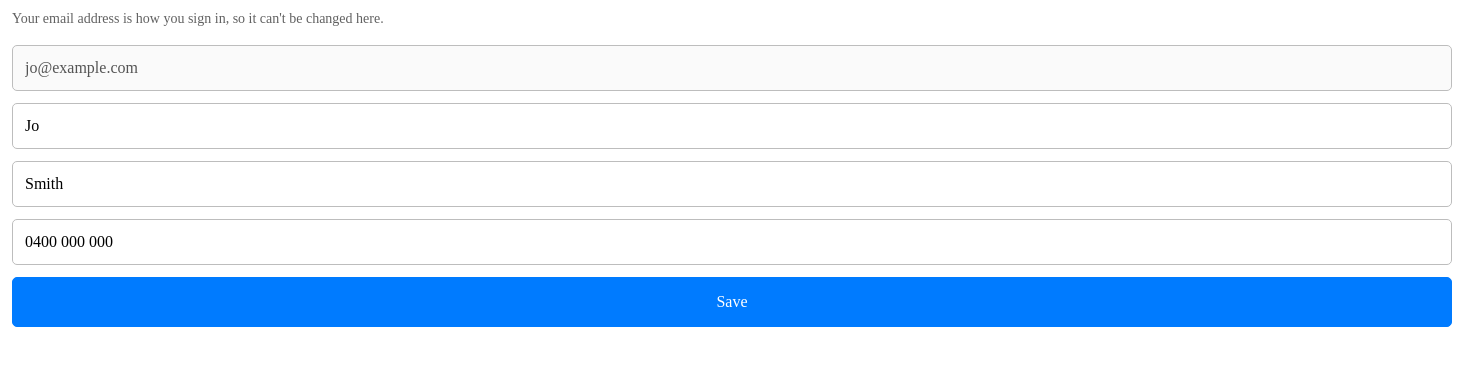
Test: CustomerDetailsForm › says when it couldn't save, and can try again
Click the button "Save" at (732, 302), box x1=12 y1=277 x2=1452 y2=327
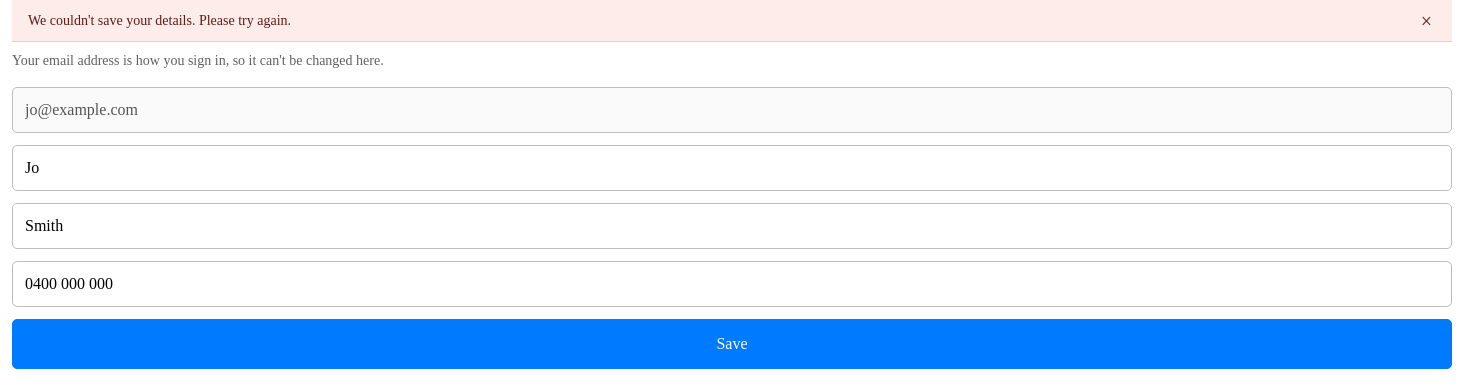
Check: the text "We couldn't save your details. Please try again." is shown, box x1=28 y1=10 x2=291 y2=31
Click the button "Save" at (732, 344), box x1=12 y1=319 x2=1452 y2=369
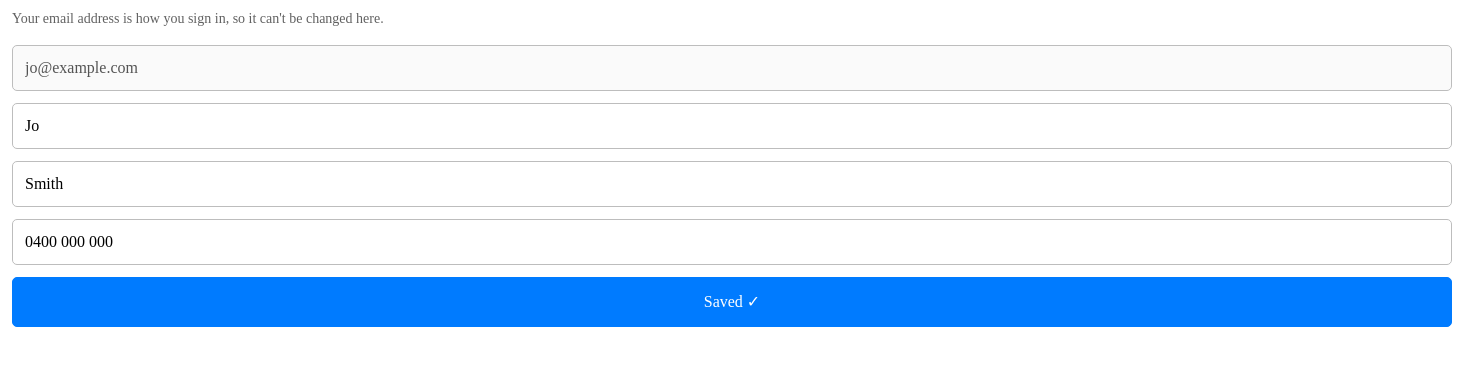
Check: the button "Saved ✓" is shown, box x1=12 y1=277 x2=1452 y2=327
Check: the text "couldn't save your details" is gone
